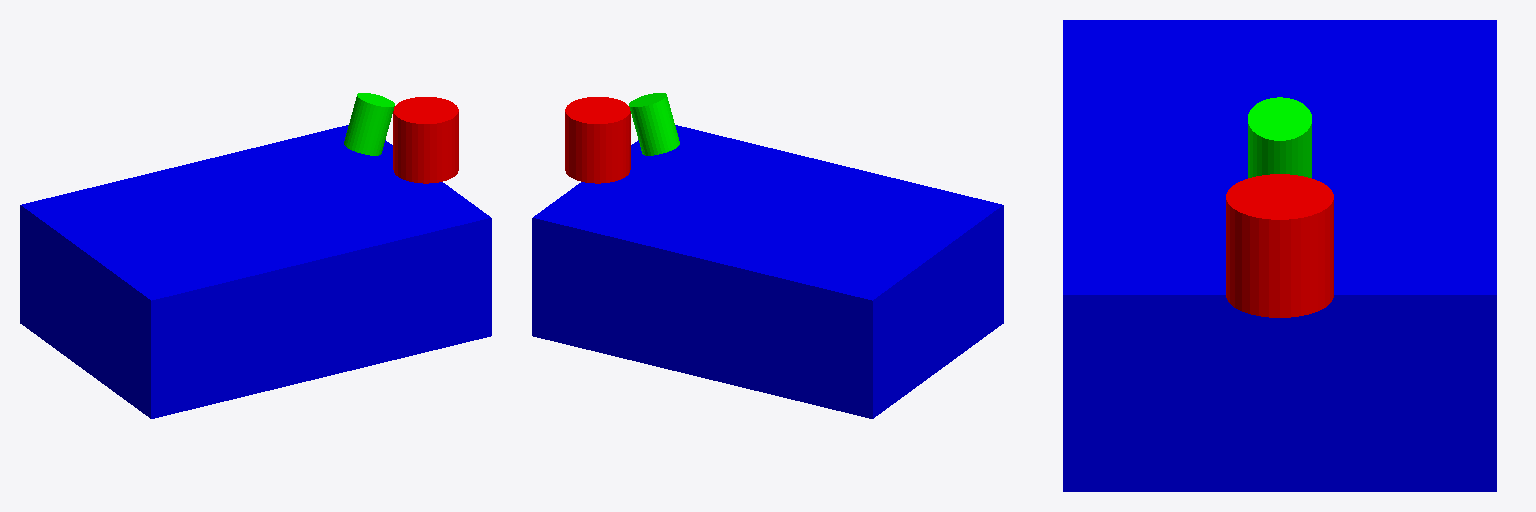
robot.urdf — ranger:
<?xml version="1.0" ?>
<robot name="ranger">
    <link name="base_footprint" />
    
    <link name="base_link">
        <visual>
            <geometry>
                <box size="0.6 0.4 0.2"/>
            </geometry>
            <material name="blue">
                <color rgba="0 0 1 1"/>
            </material>
        </visual>
        <collision>
            <geometry>
                <box size="0.6 0.4 0.2"/>
            </geometry>
        </collision>
    </link>
    
    <link name="base_laser_link">
        <visual>
            <geometry>
                <cylinder radius="0.05" length="0.1"/>
            </geometry>
            <material name="red">
                <color rgba="1 0 0 1"/>
            </material>
        </visual>
    </link>
    
    <link name="laser_tilt_link">
        <visual>
            <geometry>
                <cylinder radius="0.03" length="0.08"/>
            </geometry>
            <material name="green">
                <color rgba="0 1 0 1"/>
            </material>
        </visual>
    </link>
    
    <joint name="base_footprint_joint" type="fixed">
        <parent link="base_footprint"/>
        <child link="base_link"/>
        <origin xyz="0 0 0.1" rpy="0 0 0"/>
    </joint>
    
    <joint name="base_laser_joint" type="fixed">
        <parent link="base_link"/>
        <child link="base_laser_link"/>
        <origin xyz="0.3 0 0.15" rpy="0 0 0"/>
    </joint>
    
    <joint name="laser_tilt_joint" type="fixed">
        <parent link="base_link"/>
        <child link="laser_tilt_link"/>
        <origin xyz="0.2 0 0.2" rpy="0 0.3 0"/>
    </joint>
    
    <webots>
        <plugin type="swd.sim_webots_driver.WebotsNode" />
    </webots>
</robot>

--- Render facts (derived) ---
The picture shows the robot from 3 angles, left to right: view 1: azimuth 30°, elevation 25°; view 2: azimuth 150°, elevation 25°; view 3: azimuth 270°, elevation 25°; orthographic projection.
Robot: ranger — 4 links, 3 joints (3 fixed); root link base_footprint; default pose: every joint at zero.
Links seen in each view (by area): view 1: base_link, base_laser_link, laser_tilt_link; view 2: base_link, base_laser_link, laser_tilt_link; view 3: base_link, base_laser_link, laser_tilt_link.
Link boxes in pixels (left/top/right/bottom): base_link: left=20, top=125, right=491, bottom=418; base_laser_link: left=393, top=97, right=458, bottom=183; laser_tilt_link: left=344, top=93, right=394, bottom=155; base_link: left=532, top=125, right=1003, bottom=418; base_laser_link: left=565, top=97, right=630, bottom=183; laser_tilt_link: left=629, top=93, right=679, bottom=155; base_link: left=1063, top=20, right=1496, bottom=491; base_laser_link: left=1226, top=174, right=1333, bottom=317; laser_tilt_link: left=1248, top=97, right=1311, bottom=177.
Bounding box of the posed robot: 0.65 × 0.4 × 0.3471 m (x, y, z).
Geometry: primitives only (box / cylinder / sphere), no mesh files.